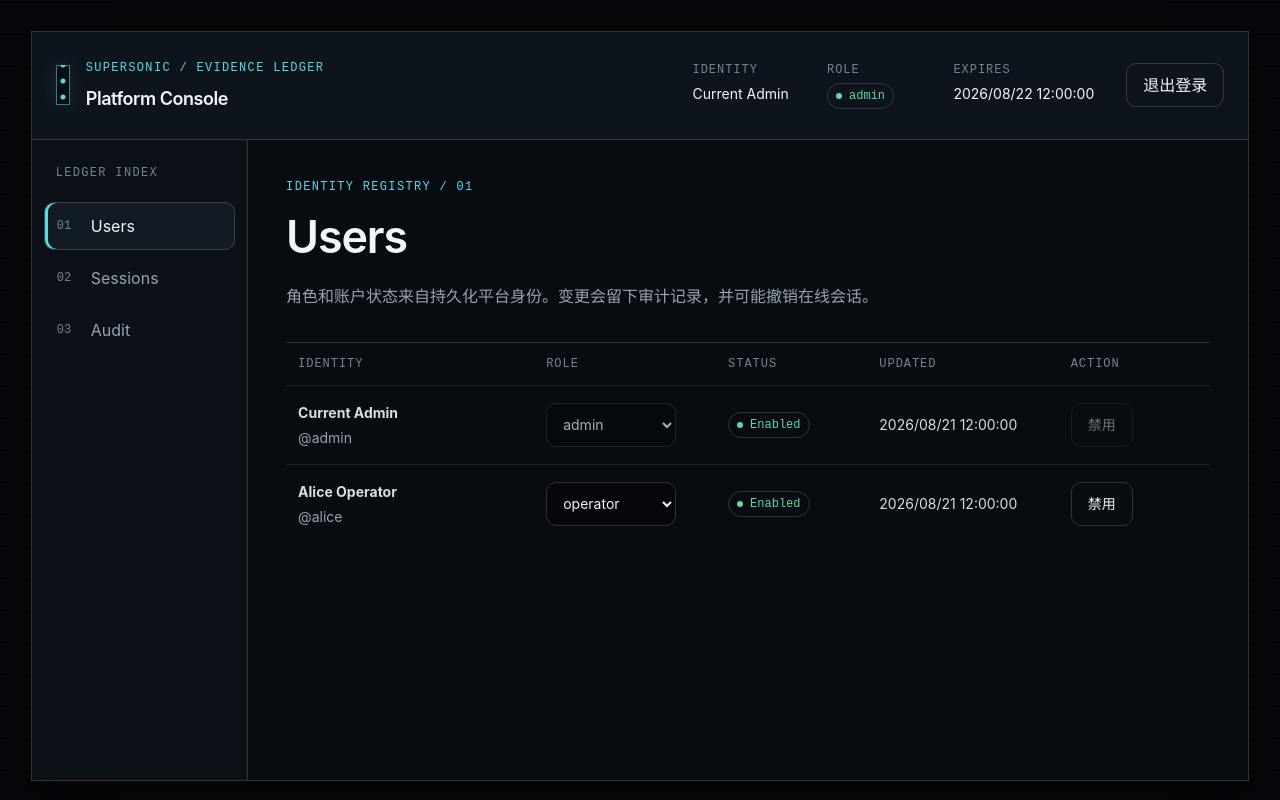
Test: PlatformConsole › never lets mutation refresh from an old auth generation overwrite a new login after 401
Click the button with aria-label "禁用 Alice Operator": [1102, 504] box [1071, 482, 1133, 526]
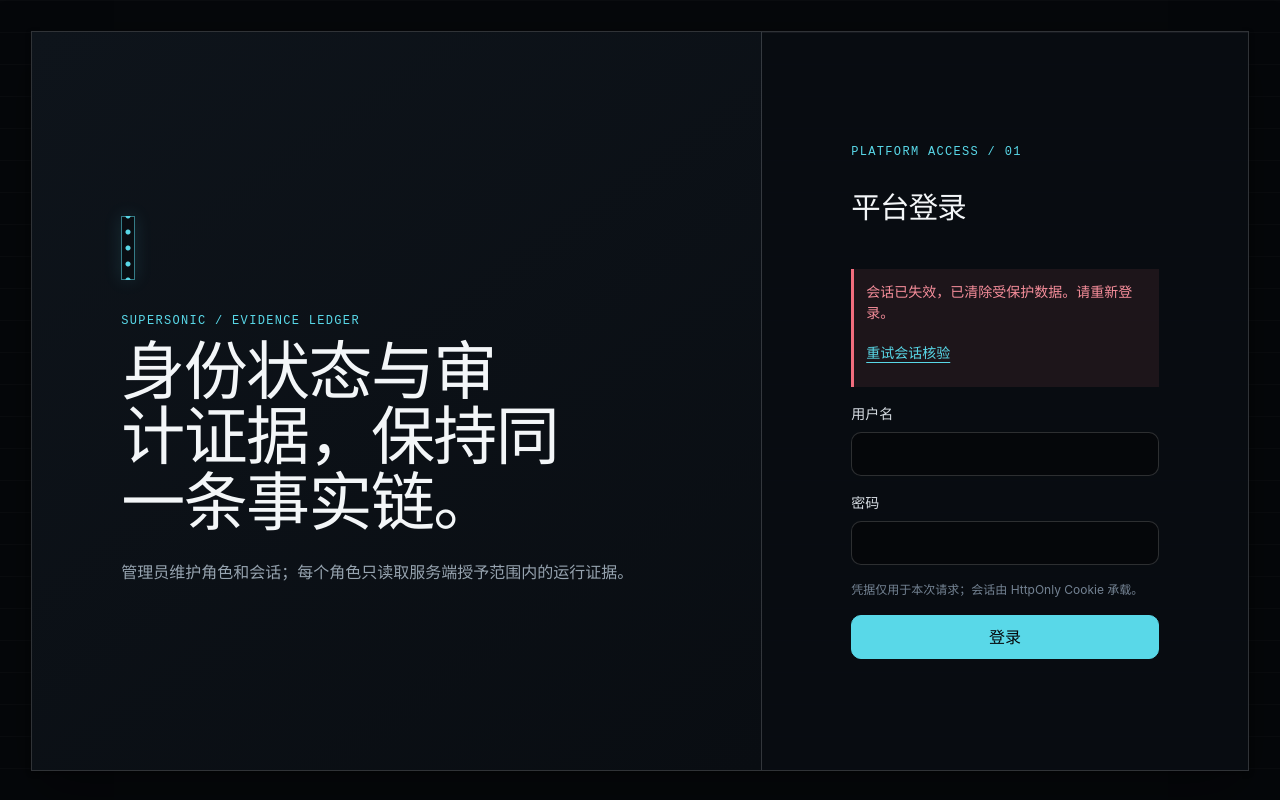
expect the heading "平台登录" is shown: met, box [851, 189, 966, 225]
In the field labelled "用户名": [1005, 454] box [851, 432, 1159, 476], type "viewer"
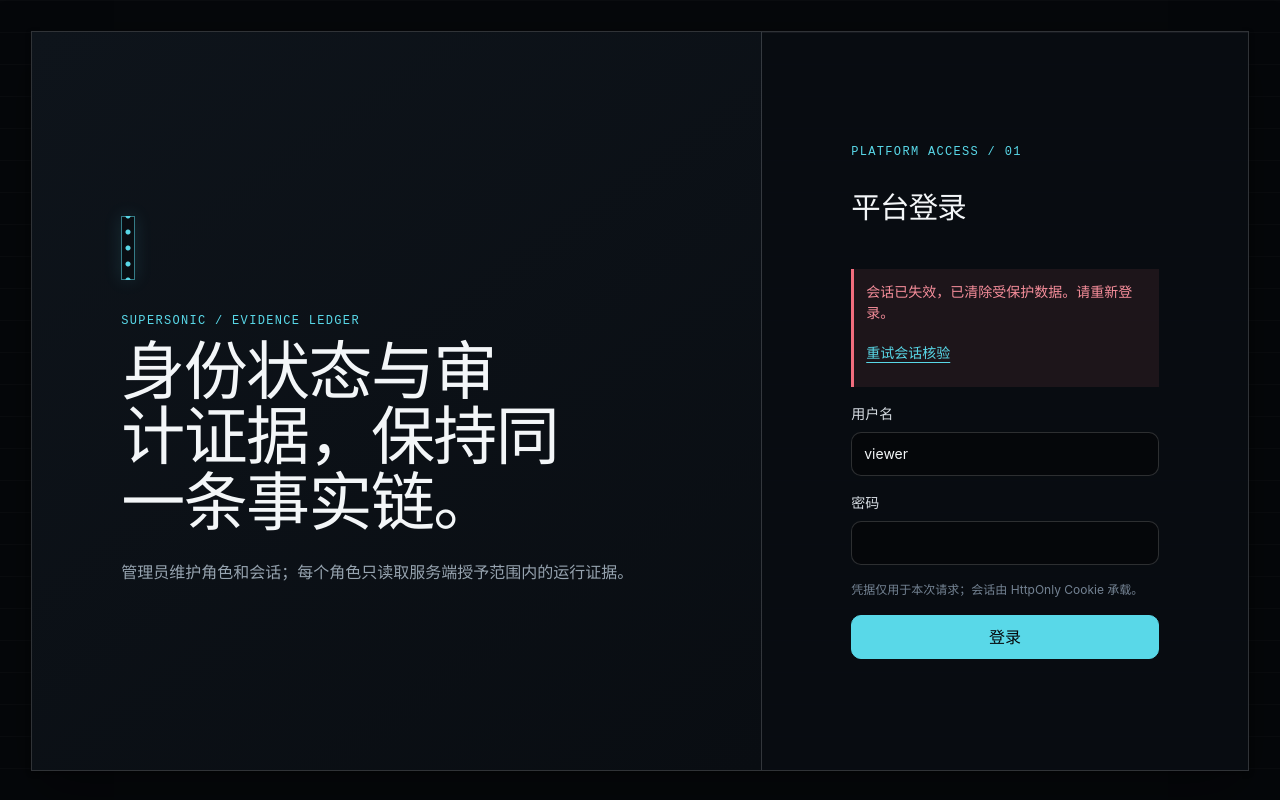
In the password field labelled "密码": [1005, 543] box [851, 521, 1159, 565], type "viewer-secret"
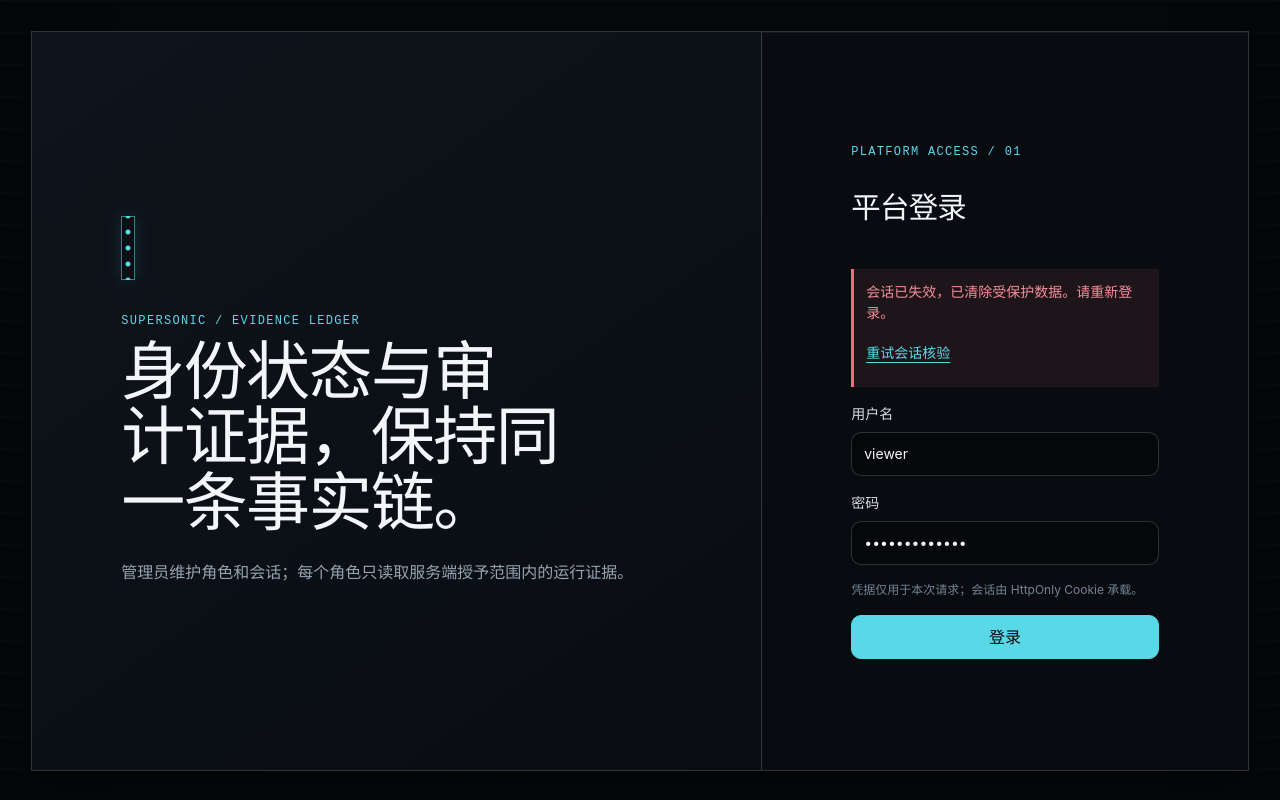
Submit the form "登录", box [851, 145, 1159, 659]
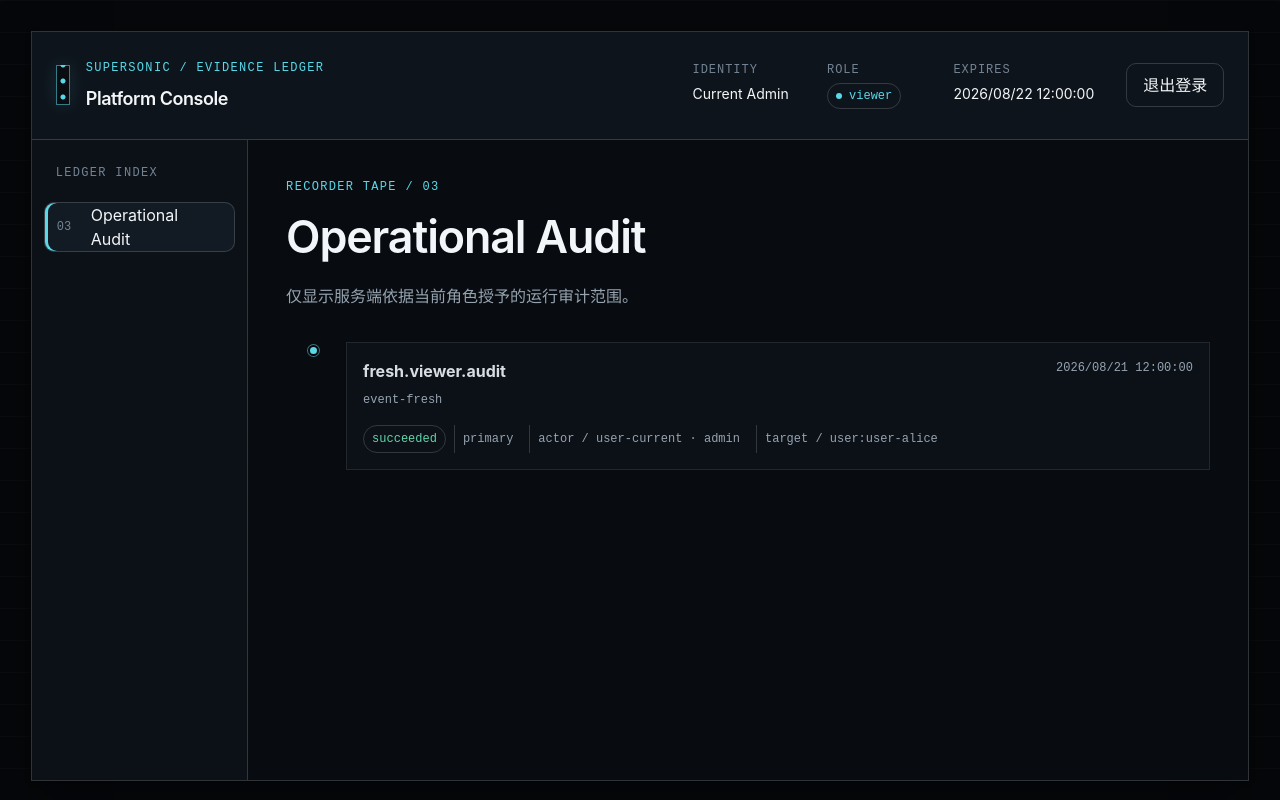
expect the tab "Users" is not shown: met
expect the text "fresh.viewer.audit" is shown: met, box [363, 359, 506, 383]
